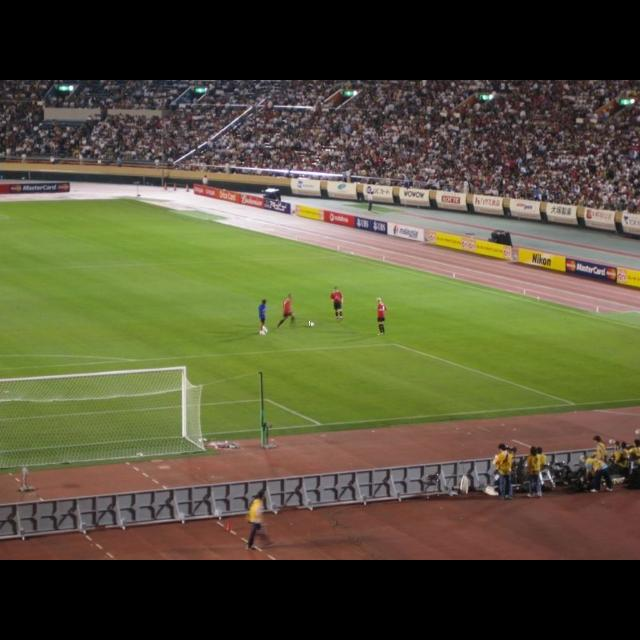Football: (310, 320, 312, 326)
